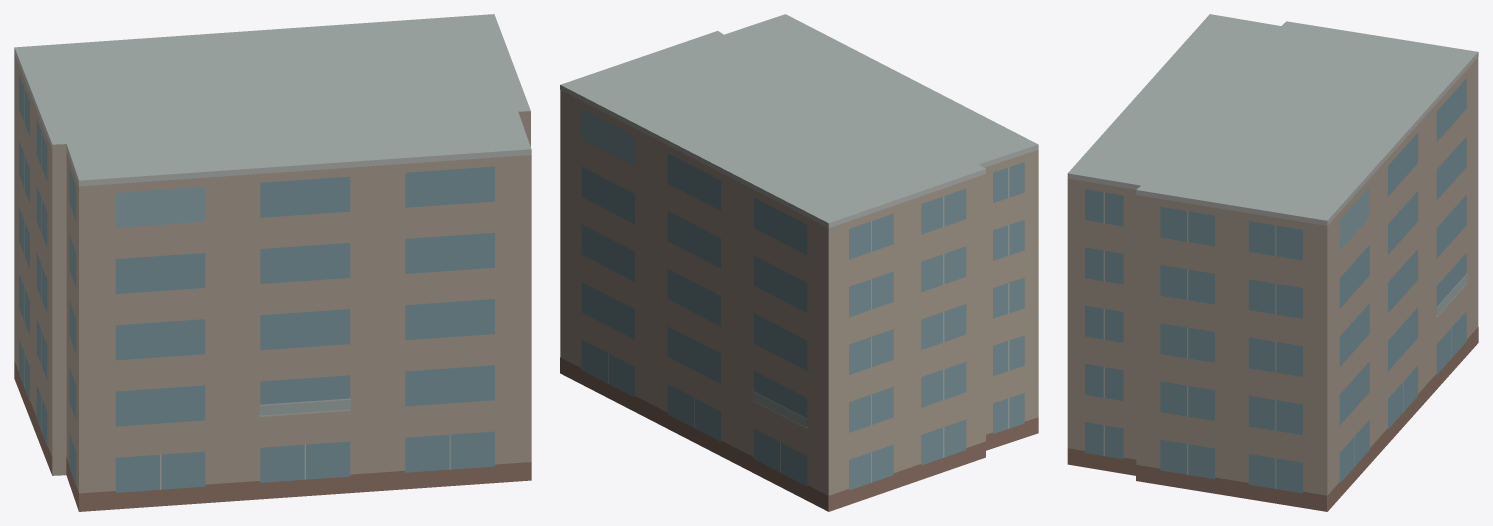
The model's file is survey-upis-32779568.glb.
The picture shows the model from 3 angles, left to right: view 1: azimuth 30°, elevation 25°; view 2: azimuth 150°, elevation 25°; view 3: azimuth 270°, elevation 25°; orthographic projection. The views are drawn at different scales.
Visible parts, largest first — view 1: survey-upis-32779568.tmp; view 2: survey-upis-32779568.tmp; view 3: survey-upis-32779568.tmp.
Part boxes in pixels (x1,y1,x2,y2): survey-upis-32779568.tmp: [14, 14, 531, 511]; survey-upis-32779568.tmp: [560, 14, 1038, 511]; survey-upis-32779568.tmp: [1067, 14, 1478, 511].
Bounding box in the file's own units: 21.34 × 14 × 17.92.
